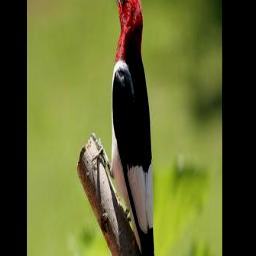Woodpecker: (102, 0, 164, 256)
